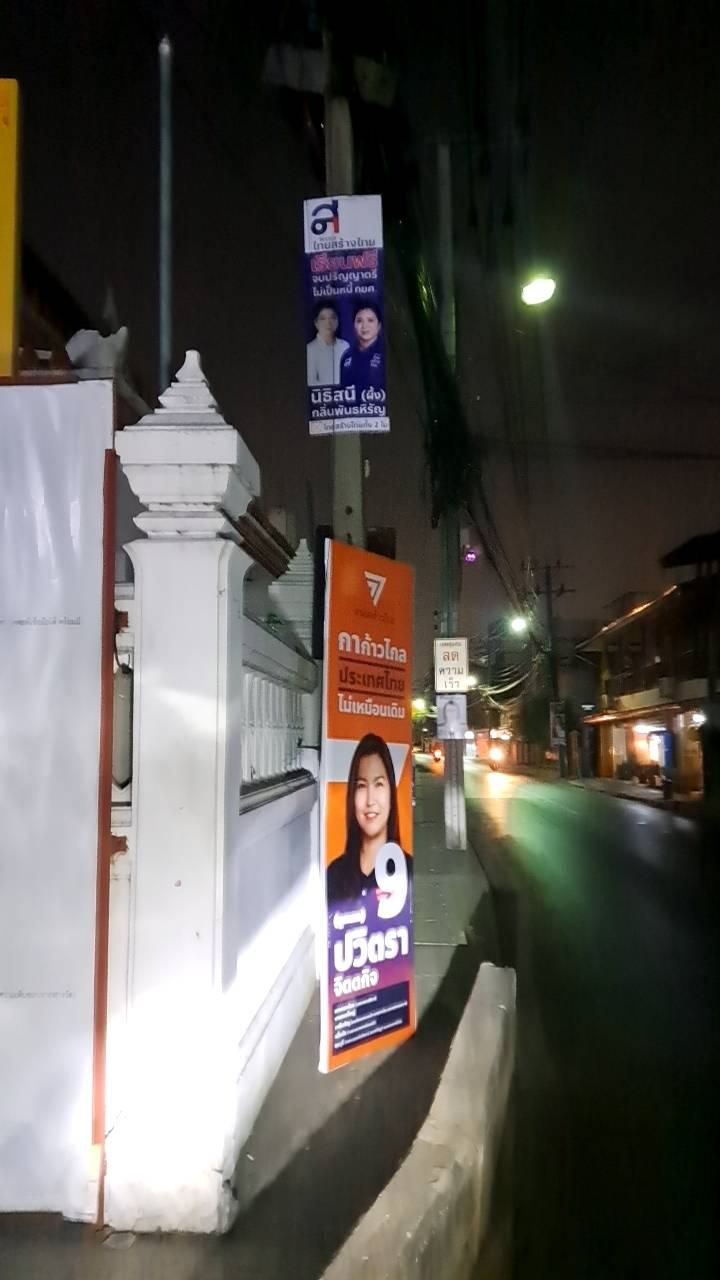Banner: (294, 543, 436, 1080)
